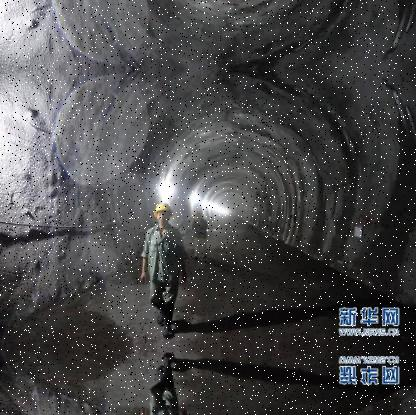helmet: (152, 201, 172, 228)
